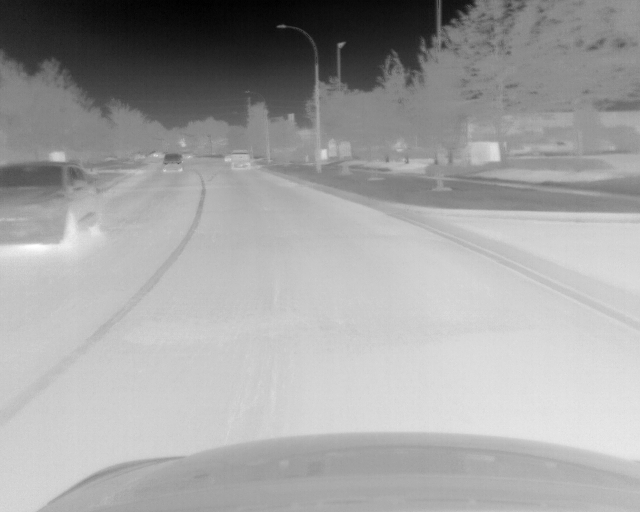car: (1, 163, 104, 247), (225, 149, 252, 171), (162, 153, 184, 173)
